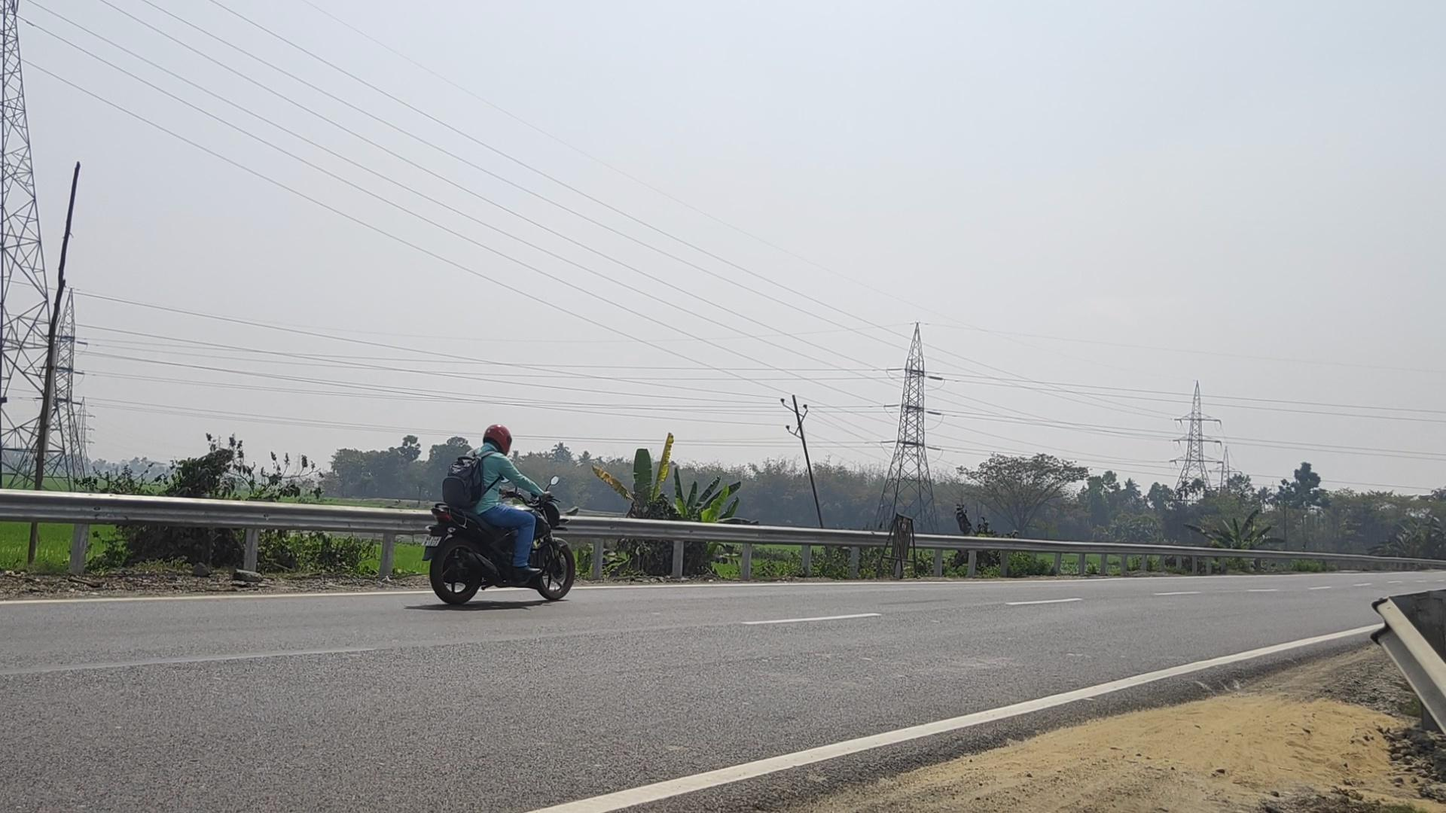bike: (423, 424, 576, 605)
